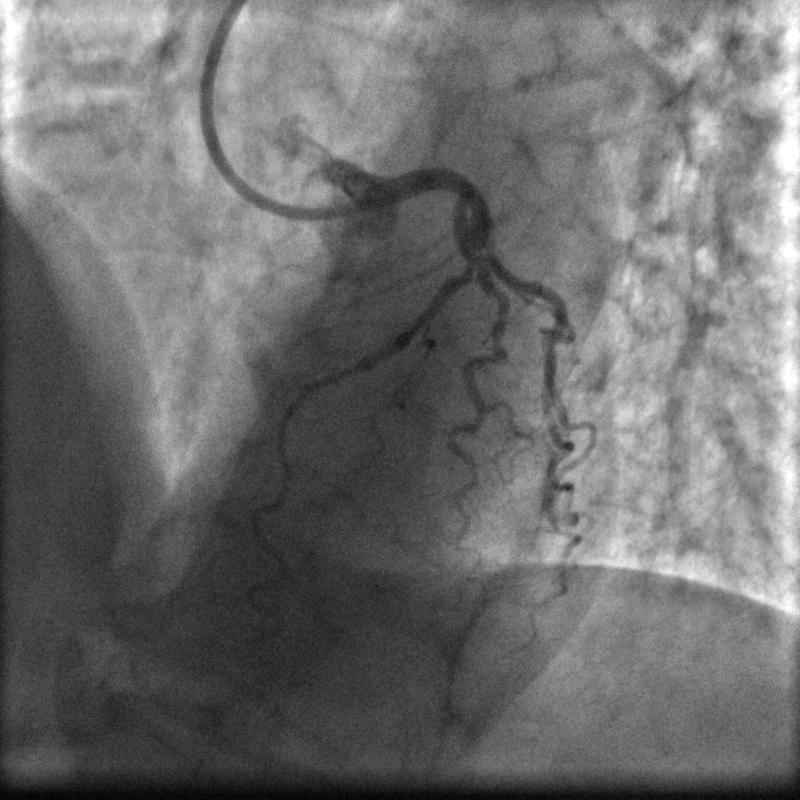Stenosis: (458, 248, 489, 278)
